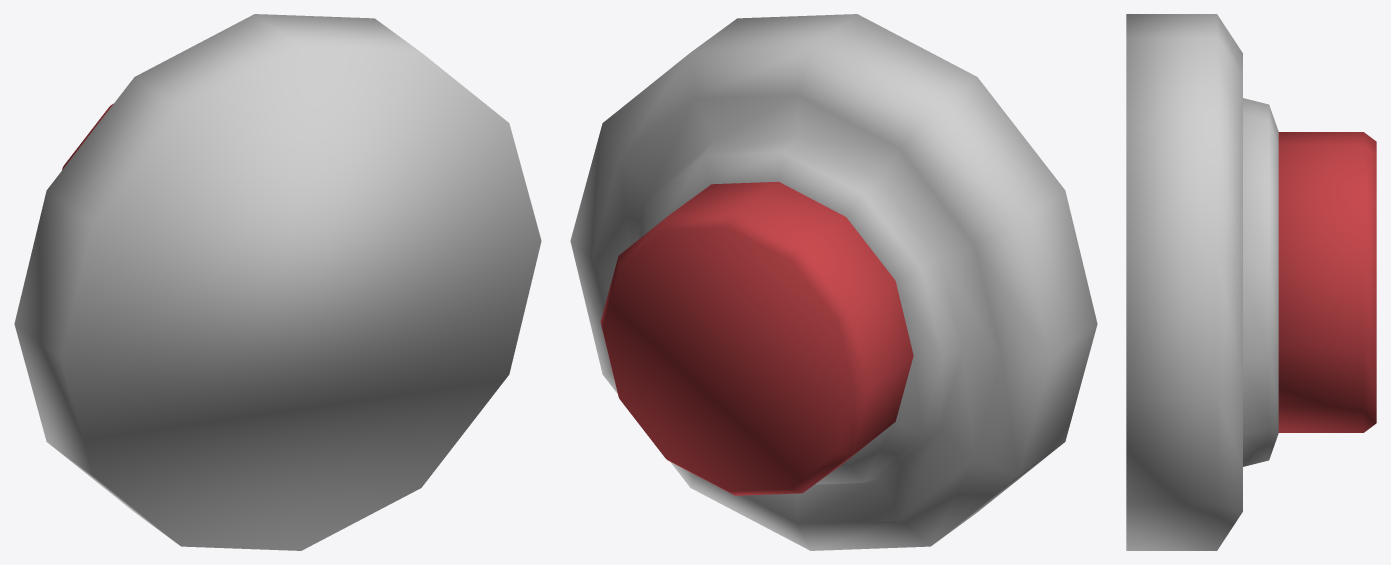
File: button_small.glb
The picture shows the model from 3 angles, left to right: view 1: azimuth 30°, elevation 25°; view 2: azimuth 150°, elevation 25°; view 3: azimuth 270°, elevation 25°; orthographic projection. The views are drawn at different scales.
Visible parts, largest first — view 1: button_small.003; view 2: button_small.003, button_small.004; view 3: button_small.003, button_small.004.
Boxes of the visible parts, box(x1,y1,x2,y2) form: button_small.003: box(14, 14, 541, 550); button_small.003: box(570, 14, 1097, 550); button_small.004: box(600, 181, 913, 495); button_small.003: box(1126, 14, 1278, 550); button_small.004: box(1278, 132, 1376, 432).
Bounding box in the file's own units: 0.072 × 0.072 × 0.0334.
